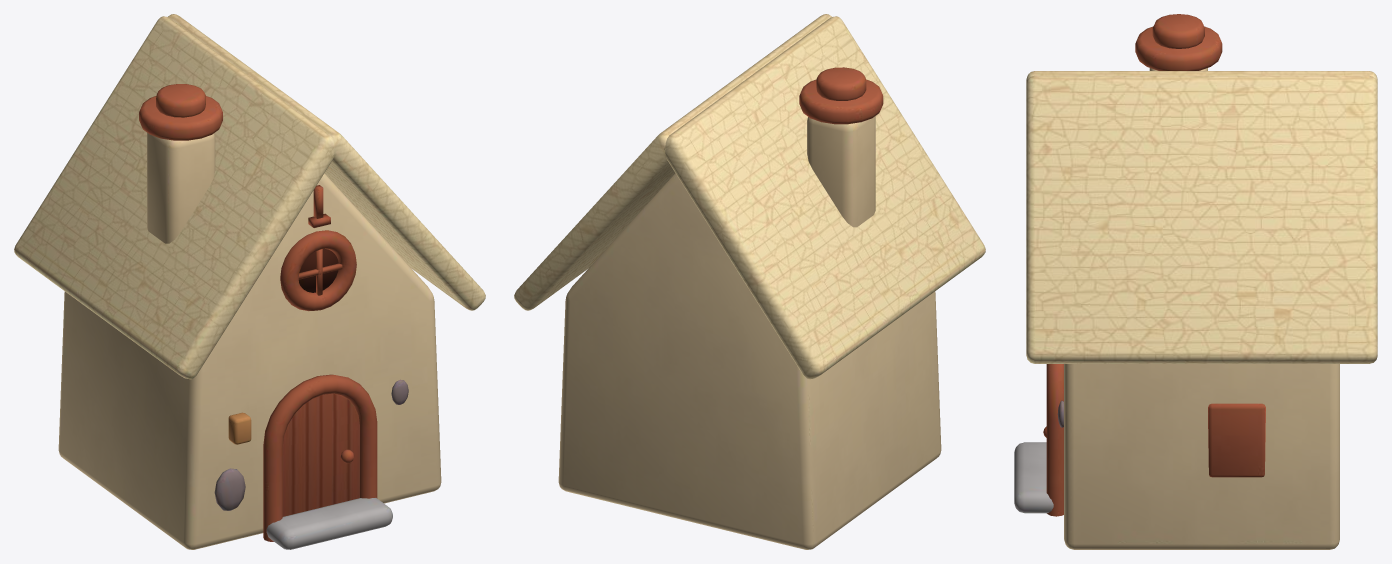
File: hut_test.glb
The picture shows the model from 3 angles, left to right: view 1: azimuth 30°, elevation 25°; view 2: azimuth 150°, elevation 25°; view 3: azimuth 270°, elevation 25°; orthographic projection. The views are drawn at different scales.
Parts seen in each view (by area): view 1: hut; view 2: hut; view 3: hut.
Boxes of the visible parts, x1,y1,x2,y2 form: hut: (14, 14, 485, 549); hut: (514, 14, 985, 549); hut: (1014, 14, 1377, 549).
Size of the model in its own units: 1.27 by 1.62 by 1.25.
1 material, 1 textured.
